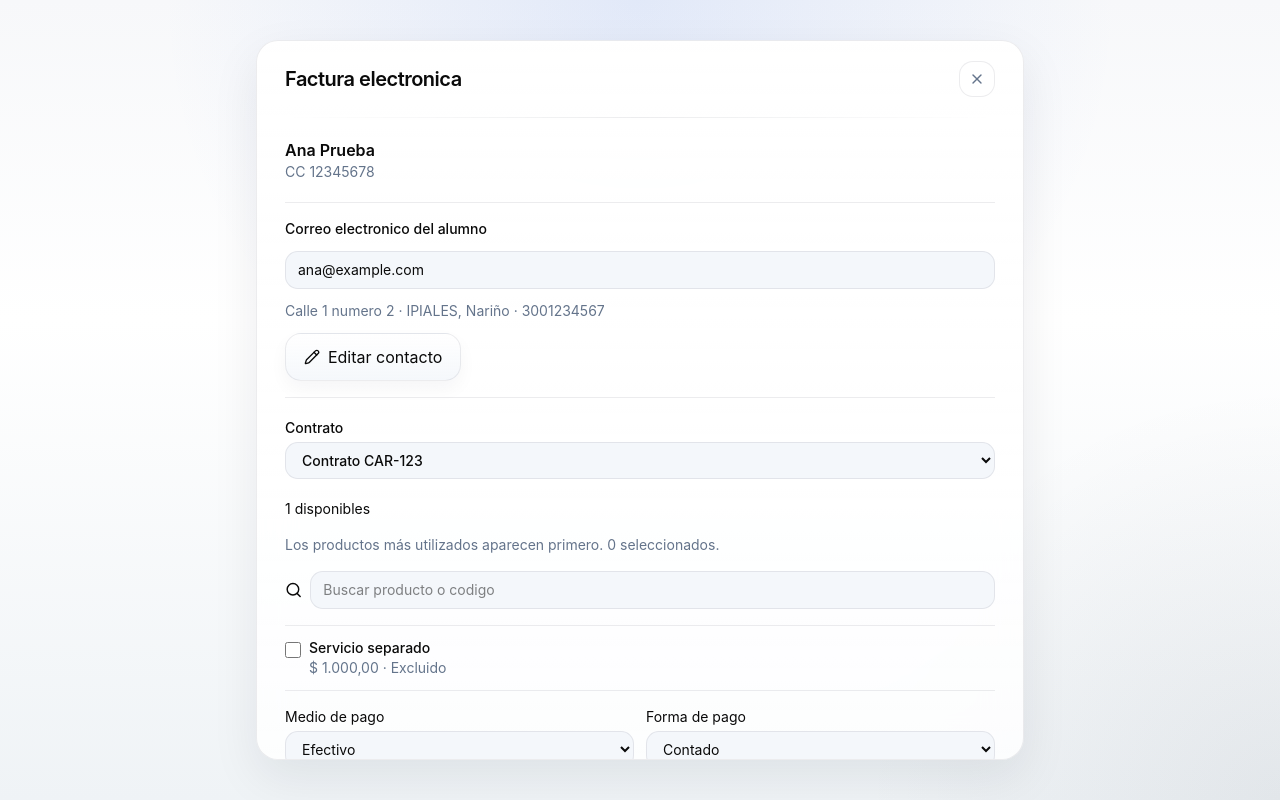
Test: preselecciona recibido completo y permite cambiarlo a pendiente antes de revisar
Click the checkbox labelled "Servicio separado". click: (293, 650)
box: [285, 642, 301, 658]
(page scrolled)
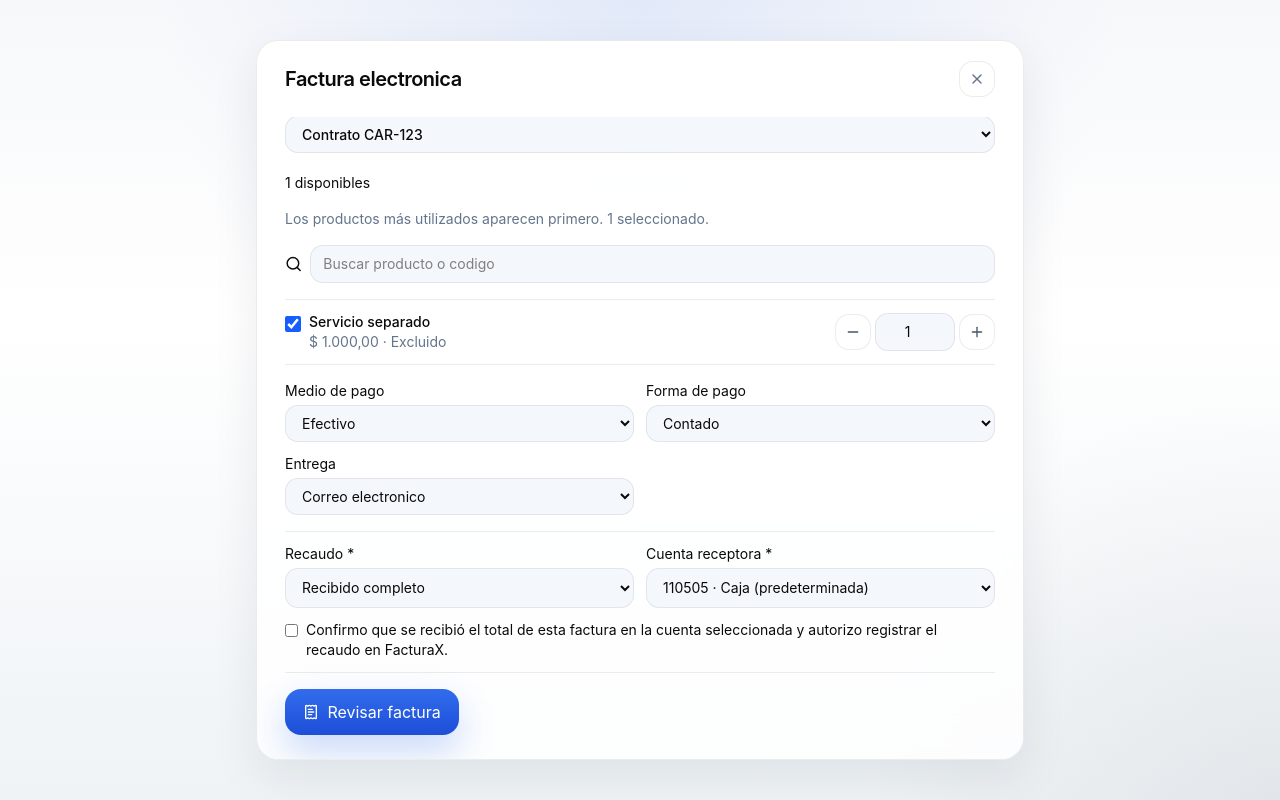
Expected: the button "Revisar factura" is disabled, [285, 689, 459, 735]
Select "Pendiente de recibir" in the dropdown labelled "Recaudo *". click: (460, 588)
box: [285, 568, 634, 608]
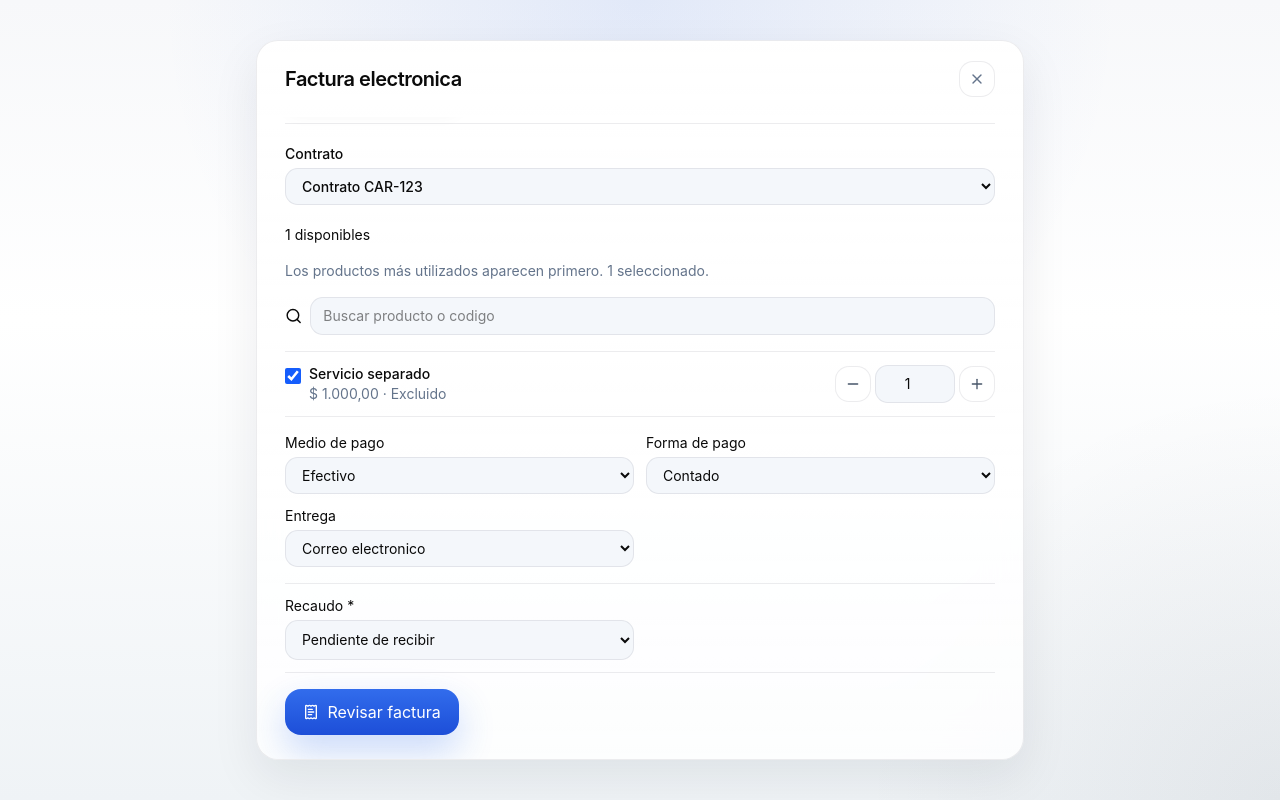
Click the button "Revisar factura". click: (372, 712)
box: [285, 689, 459, 735]
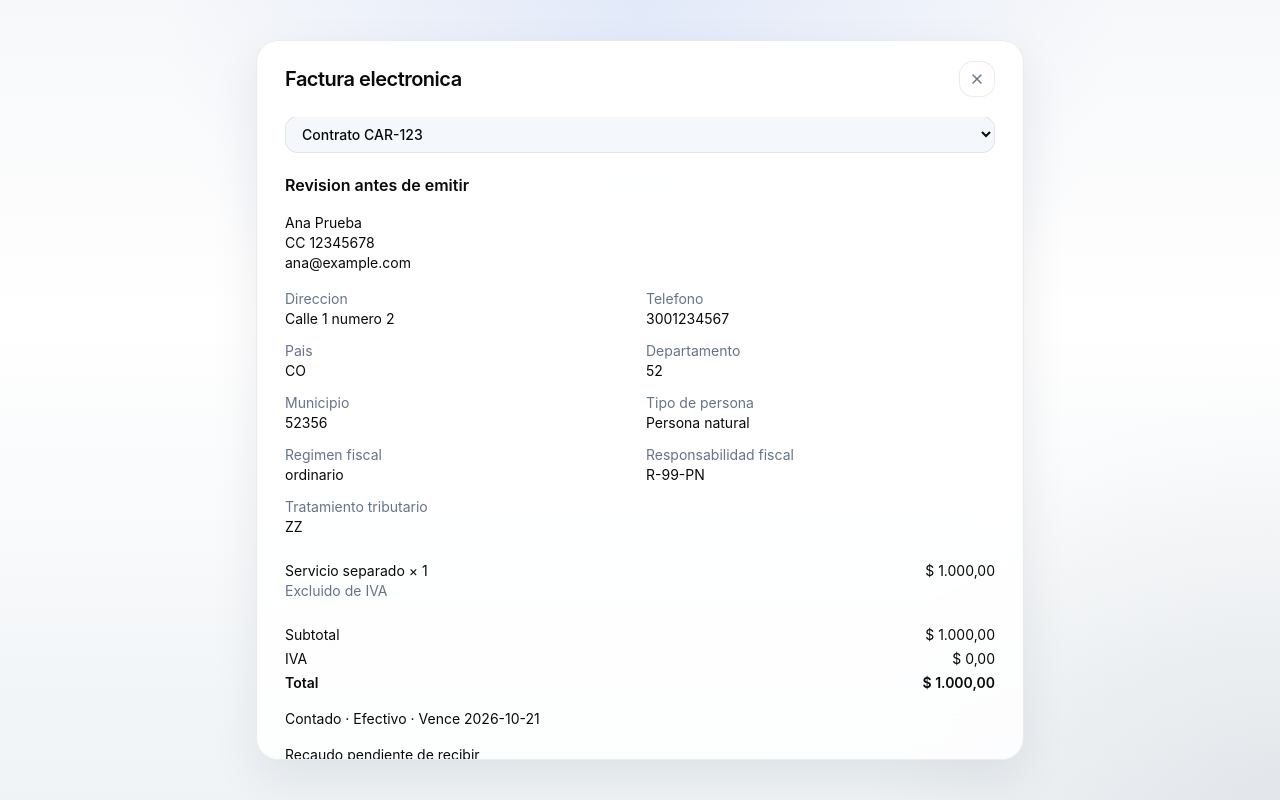
Expected: the text "Recaudo pendiente de recibir" is shown, [285, 746, 480, 759]
